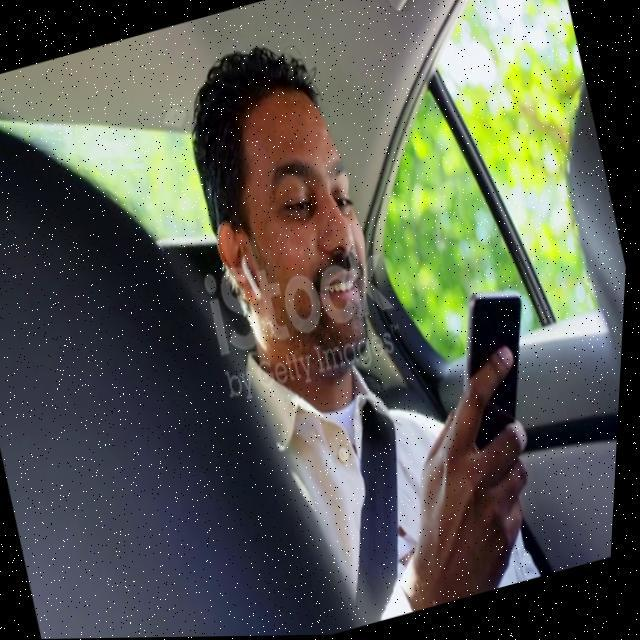PhoneCall: (436, 281, 562, 463)
